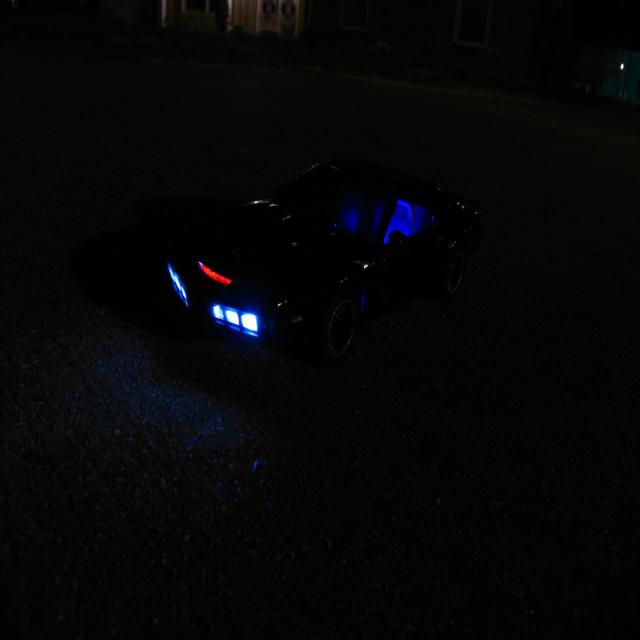Car: (165, 155, 482, 367)
